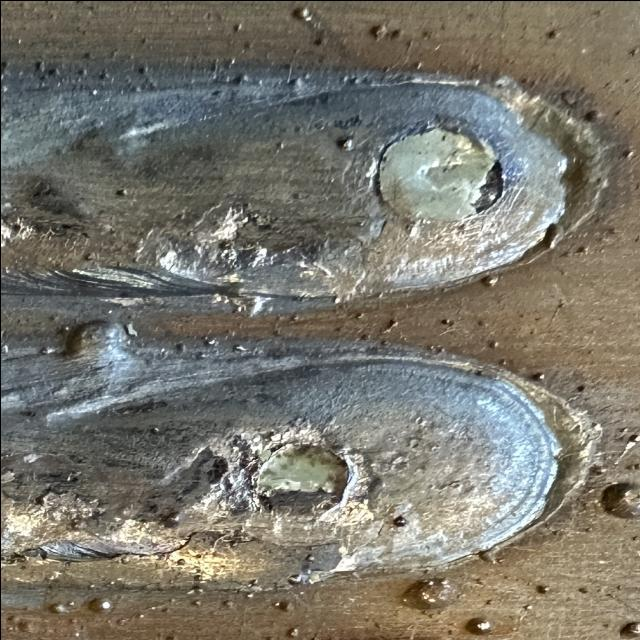Excess Reinforcement: (225, 294, 272, 315)
Spatters: (62, 320, 127, 364), (400, 578, 457, 609), (600, 482, 640, 518), (542, 222, 562, 250), (465, 618, 490, 634), (618, 621, 639, 639), (87, 598, 112, 612), (368, 22, 387, 40), (335, 135, 355, 150), (292, 6, 312, 20), (232, 70, 252, 84), (380, 319, 398, 332), (582, 109, 600, 121), (287, 77, 302, 91), (48, 602, 68, 612), (482, 274, 498, 286), (273, 600, 288, 611), (388, 29, 403, 40), (285, 626, 298, 638), (38, 345, 55, 354), (175, 342, 187, 354), (530, 371, 545, 380), (545, 29, 558, 39), (427, 344, 443, 352), (392, 516, 404, 526), (33, 59, 43, 71), (535, 585, 548, 594), (625, 462, 639, 470), (222, 599, 233, 608), (628, 434, 640, 442), (203, 336, 215, 344), (115, 188, 127, 196), (85, 252, 97, 260), (497, 358, 508, 366), (233, 344, 245, 351), (577, 586, 587, 594), (575, 384, 585, 392), (487, 340, 497, 348), (360, 332, 370, 340), (197, 351, 207, 359), (227, 56, 235, 66), (60, 325, 70, 332), (137, 66, 145, 74), (378, 339, 388, 345), (233, 24, 240, 32), (245, 591, 253, 598), (382, 65, 391, 71), (415, 61, 422, 68), (192, 599, 200, 605), (583, 526, 591, 532), (355, 311, 363, 317), (522, 604, 531, 609), (440, 319, 449, 324), (485, 599, 492, 605), (67, 601, 74, 605)
